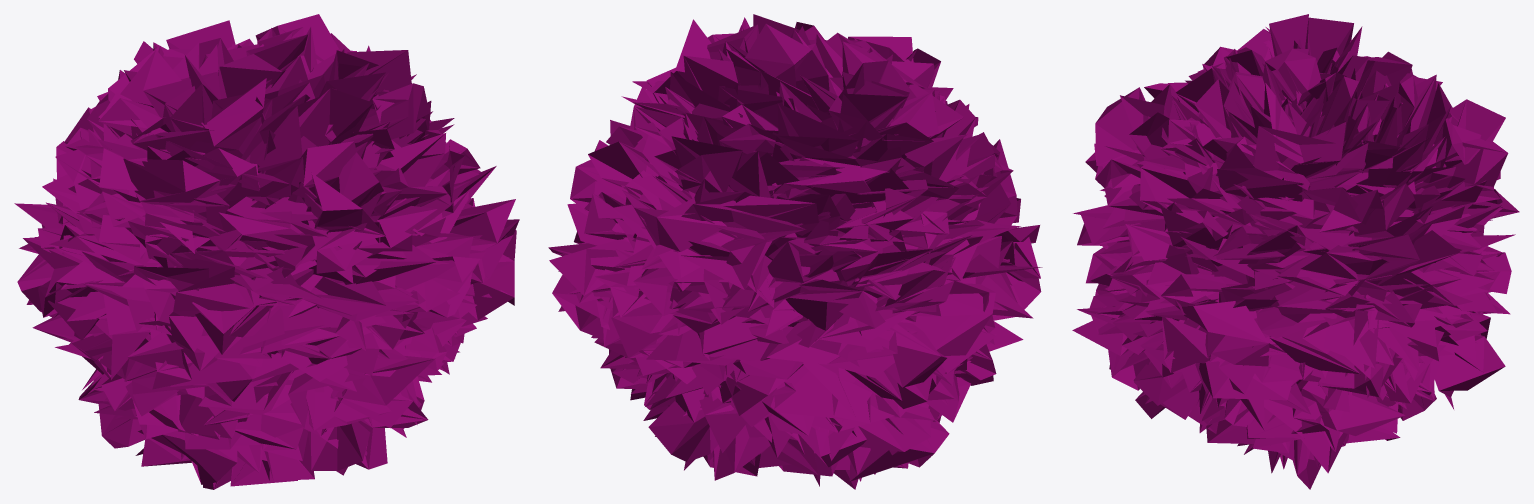
The model's file is blue object.obj.
3 views of the same model, side by side, from view 1: azimuth 30°, elevation 25°; view 2: azimuth 150°, elevation 25°; view 3: azimuth 270°, elevation 25° (orthographic). The views are drawn at different scales.
Parts seen in each view (by area): view 1: Platonic; view 2: Platonic; view 3: Platonic.
Part boxes in pixels (bbox=[...]): Platonic: bbox=[14, 14, 519, 489]; Platonic: bbox=[548, 14, 1042, 489]; Platonic: bbox=[1072, 14, 1519, 489].
Size of the model in its own units: 247 by 248 by 249.
